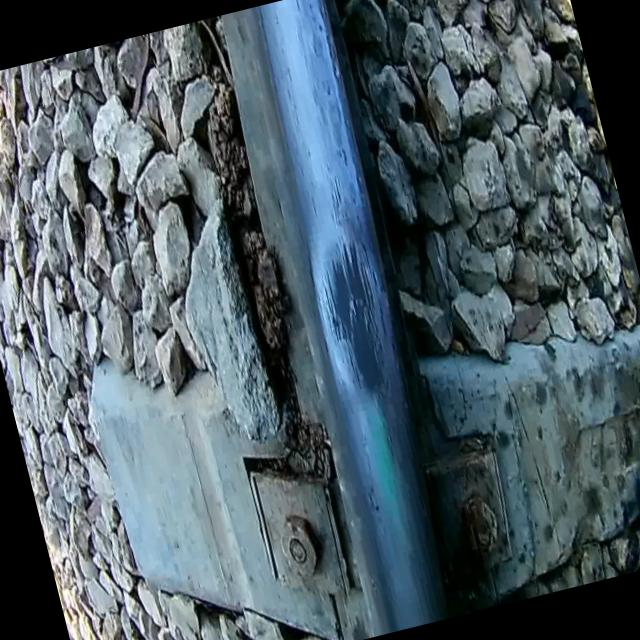Flakings: (302, 0, 381, 221)
Grooves: (312, 260, 367, 406), (348, 234, 398, 362), (318, 164, 357, 230)
Squats: (307, 227, 408, 416)
